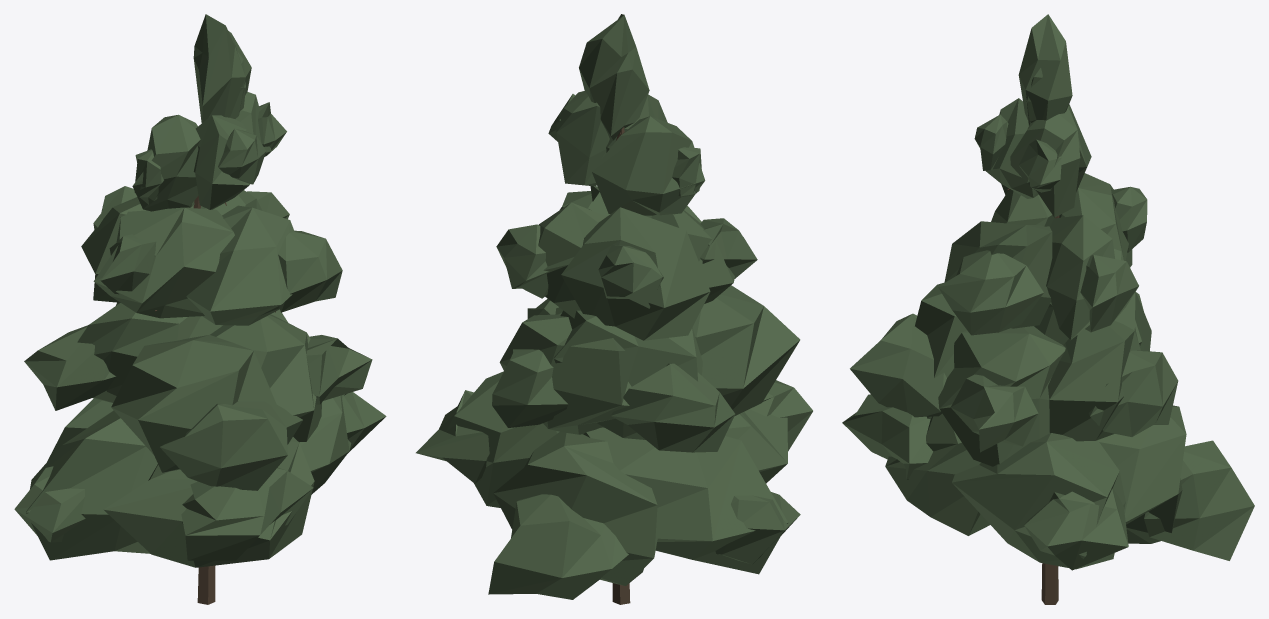
3 views of the same model, side by side, from view 1: azimuth 30°, elevation 25°; view 2: azimuth 150°, elevation 25°; view 3: azimuth 270°, elevation 25° (orthographic).
Parts seen in each view (by area): view 1: spruce; view 2: spruce; view 3: spruce.
Part boxes in pixels (x1,y1,x2,y2): spruce: [14, 14, 386, 604]; spruce: [416, 14, 812, 604]; spruce: [842, 14, 1254, 604].
Size of the model in its own units: 12.72 by 20.06 by 12.79.
